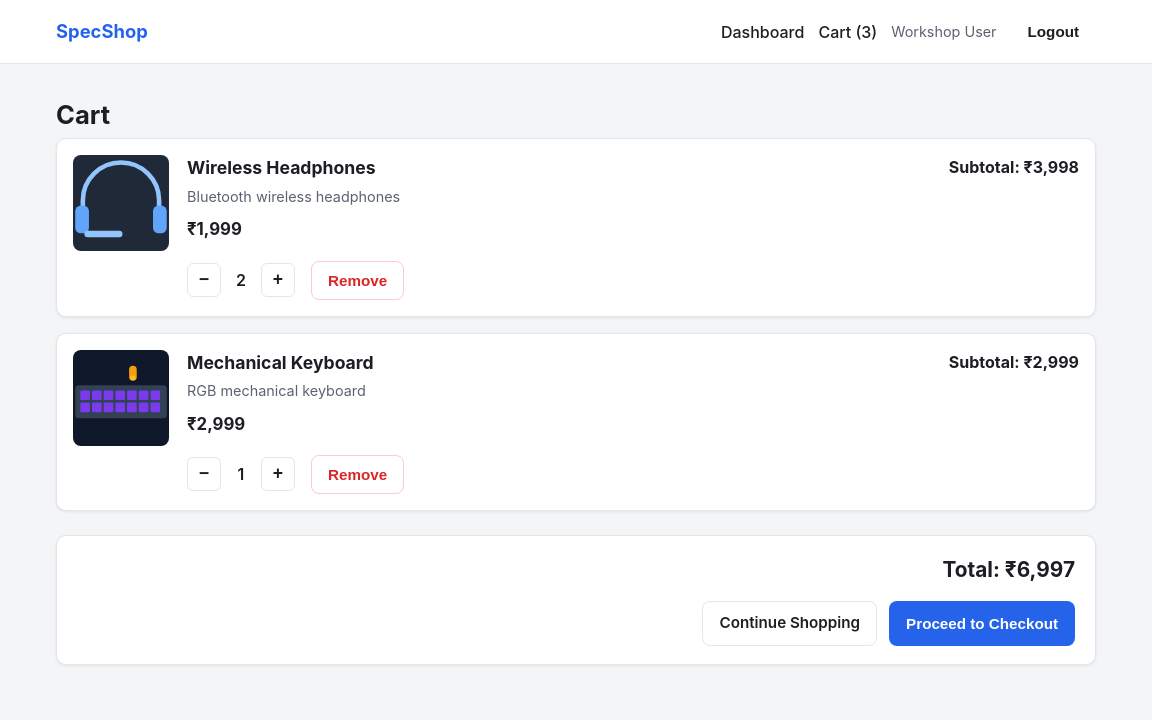
Test: cart spec › decreases quantity with - and removes the item when it reaches zero
The width and height of the screenshot is (1152, 720).
What coordinates should you click on to do the following:
click the button named "Decrease quantity of Mechanical Keyboard"
I would click on:
 (204, 474)
Its box is [187,457,221,491].
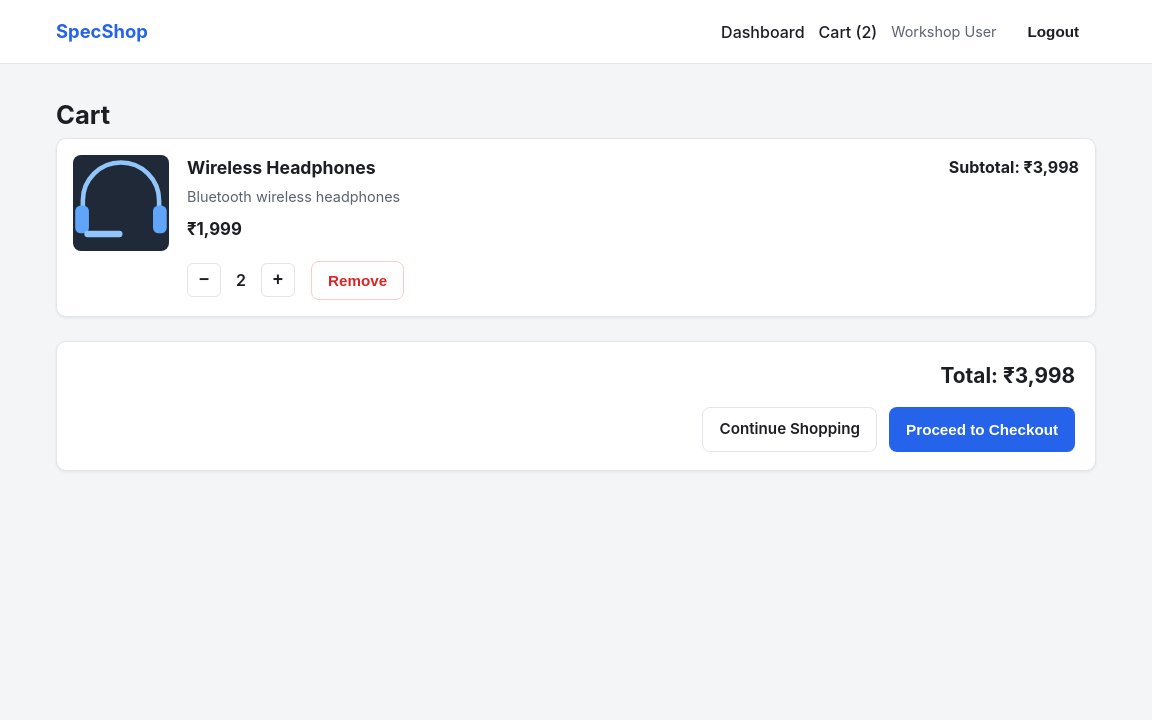
Expected: the heading "Mechanical Keyboard" is gone
Expected: the text "Total: ₹3,998" is shown, [941,363,1075,388]
